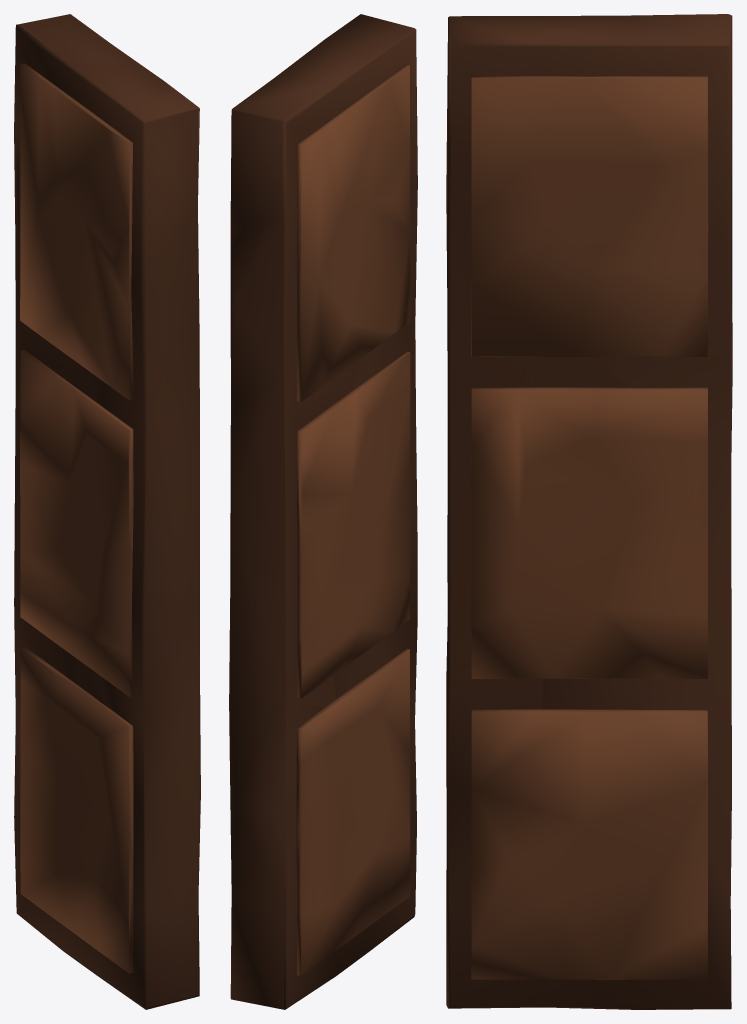
Rendered from den_dresser_wall_lod2.glb.
3 renders of one model, left to right at view 1: azimuth 30°, elevation 25°; view 2: azimuth 150°, elevation 25°; view 3: azimuth 270°, elevation 25°, orthographic. The views are drawn at different scales.
Visible parts, largest first — view 1: den_dresser_wall.001; view 2: den_dresser_wall.001; view 3: den_dresser_wall.001.
Part boxes in pixels (box(x1,y1,x2,y2)): den_dresser_wall.001: box(14, 14, 200, 1009); den_dresser_wall.001: box(229, 14, 417, 1009); den_dresser_wall.001: box(446, 14, 732, 1009).
Bounding box in the file's own units: 6.97 × 90.23 × 24.2.
